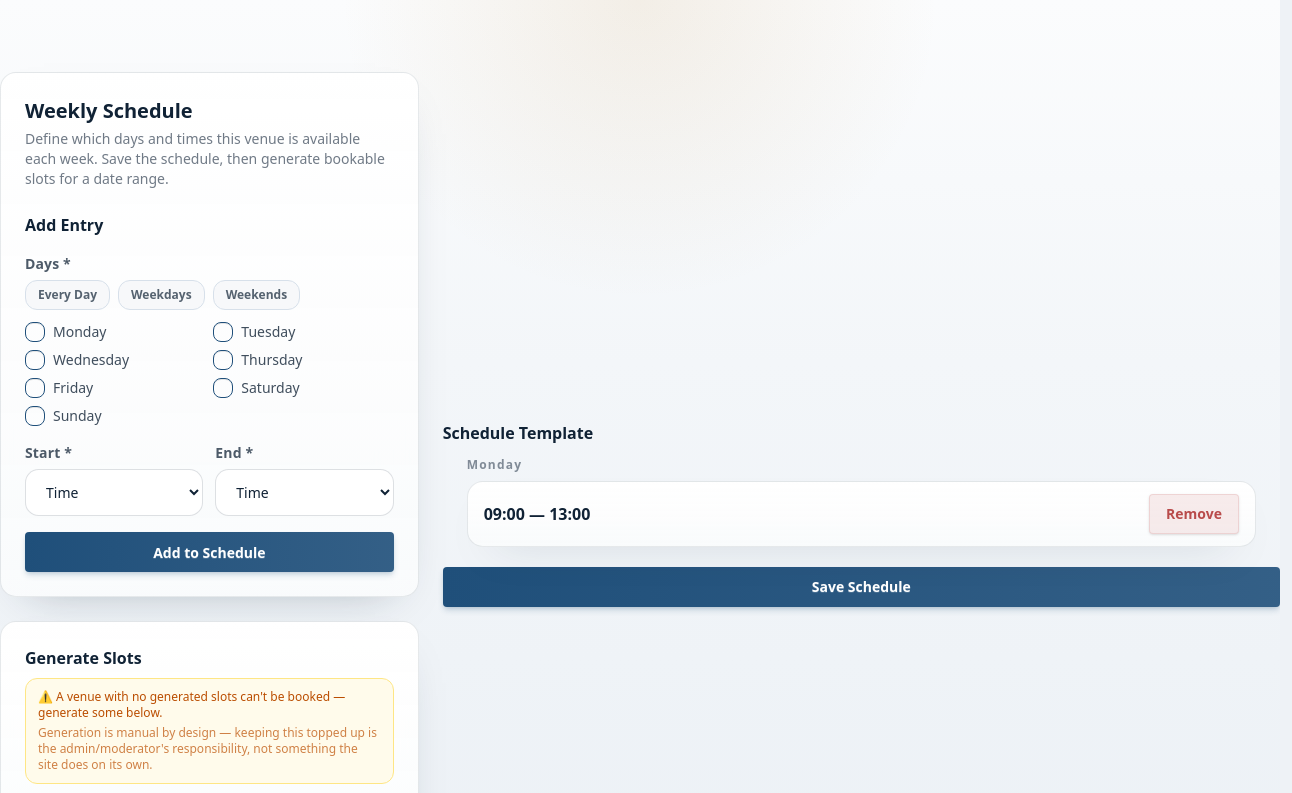
Scenario: ScheduleEditor — Add Entry overlap validation › blocks adding an entry that overlaps an existing one on the same day, before it ever reaches setSchedule
Click the checkbox labelled "monday" at (35, 332), box [25,322,45,342]
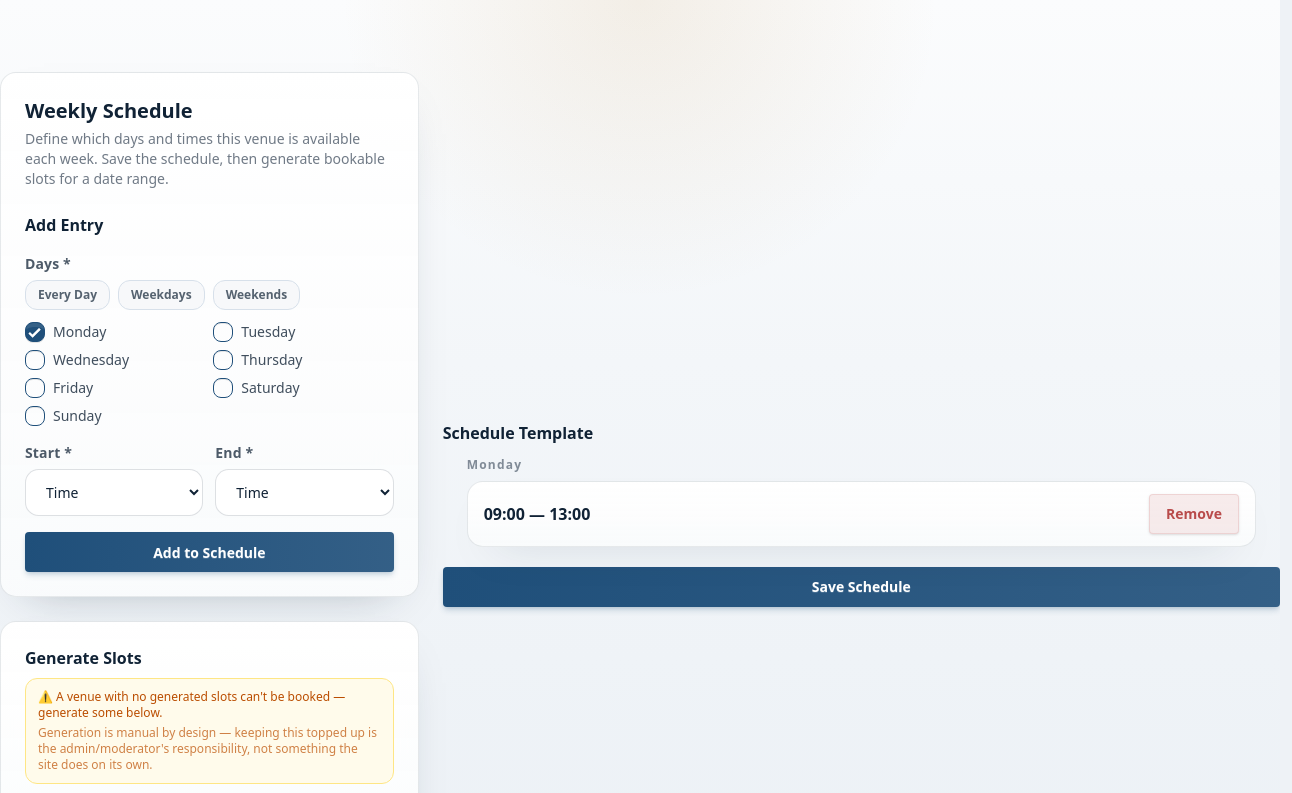
Select "12:00" in the dropdown labelled "Start *" at (114, 492), box [25,469,203,516]
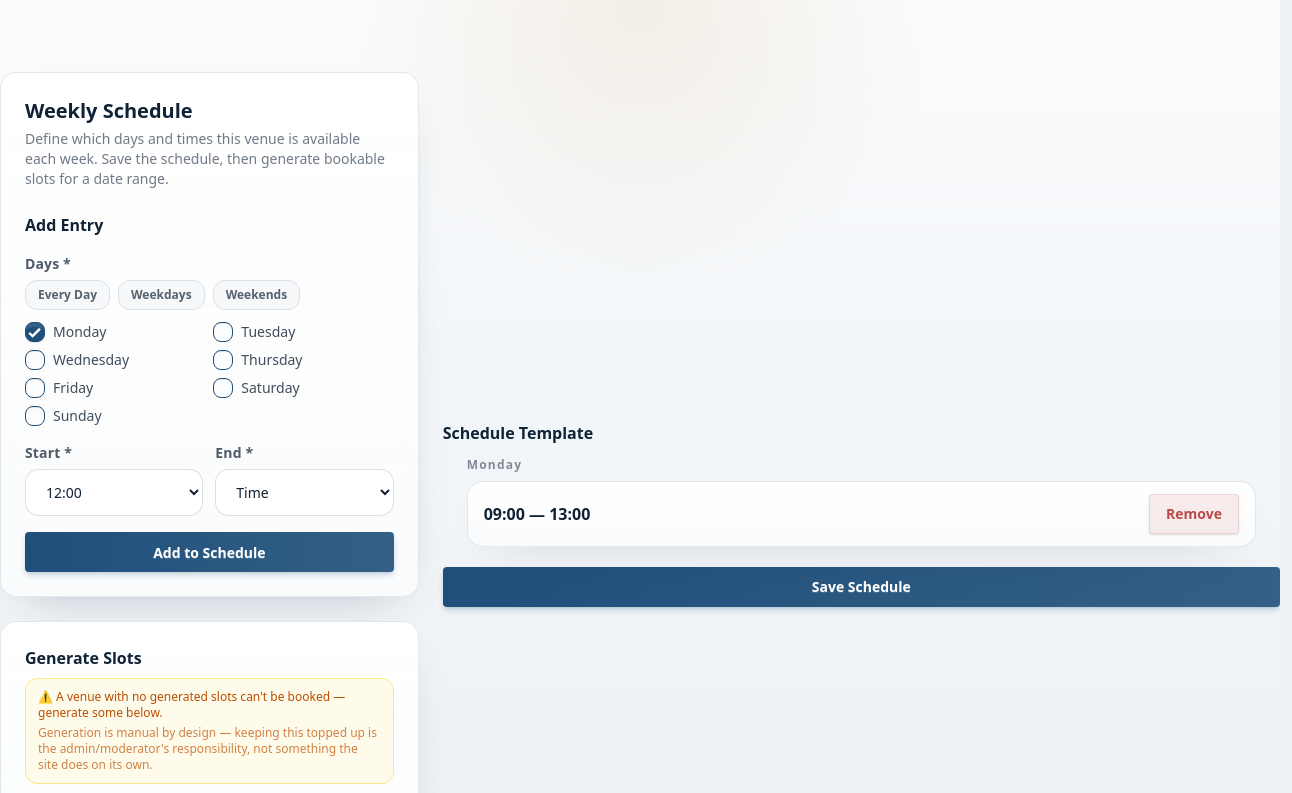
Select "16:00" in the dropdown labelled "End *" at (304, 492), box [215,469,394,516]
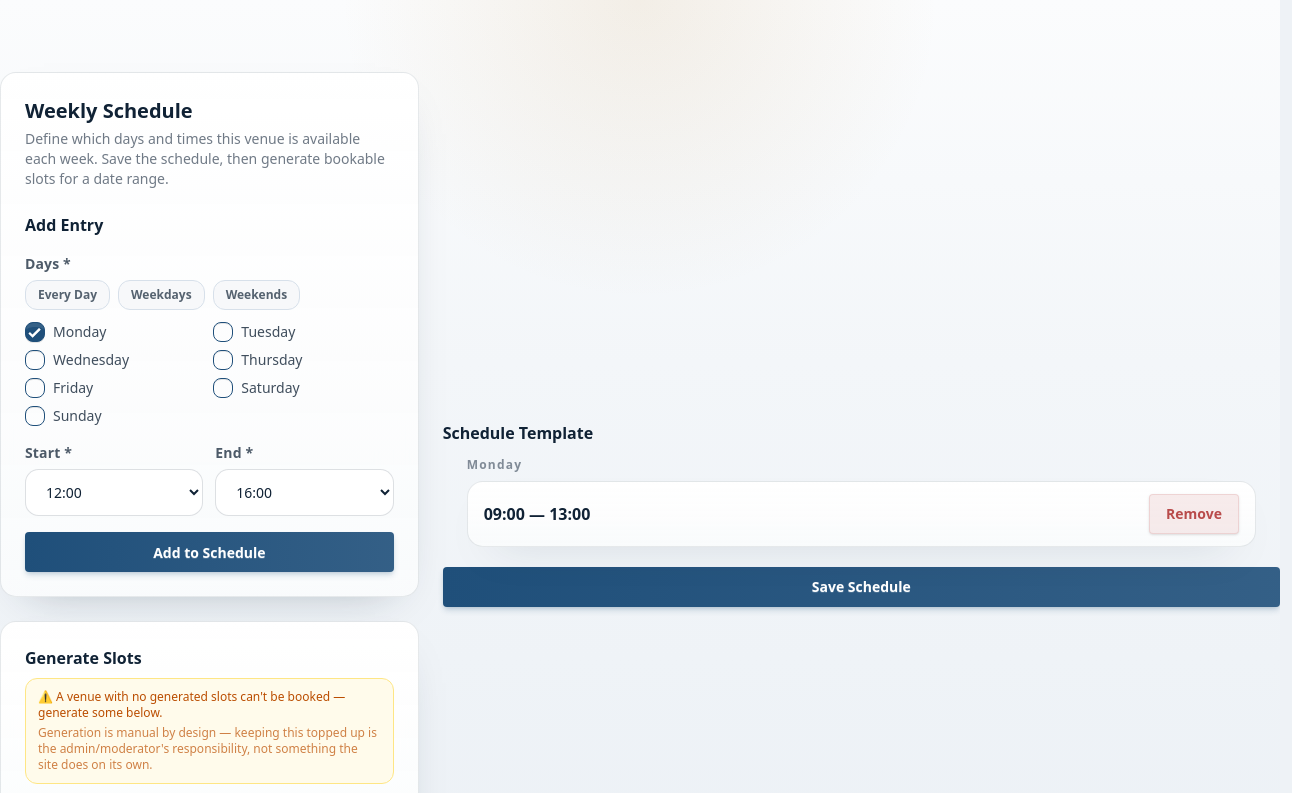
Click the button "Add to Schedule" at (209, 552), box [25,532,394,572]
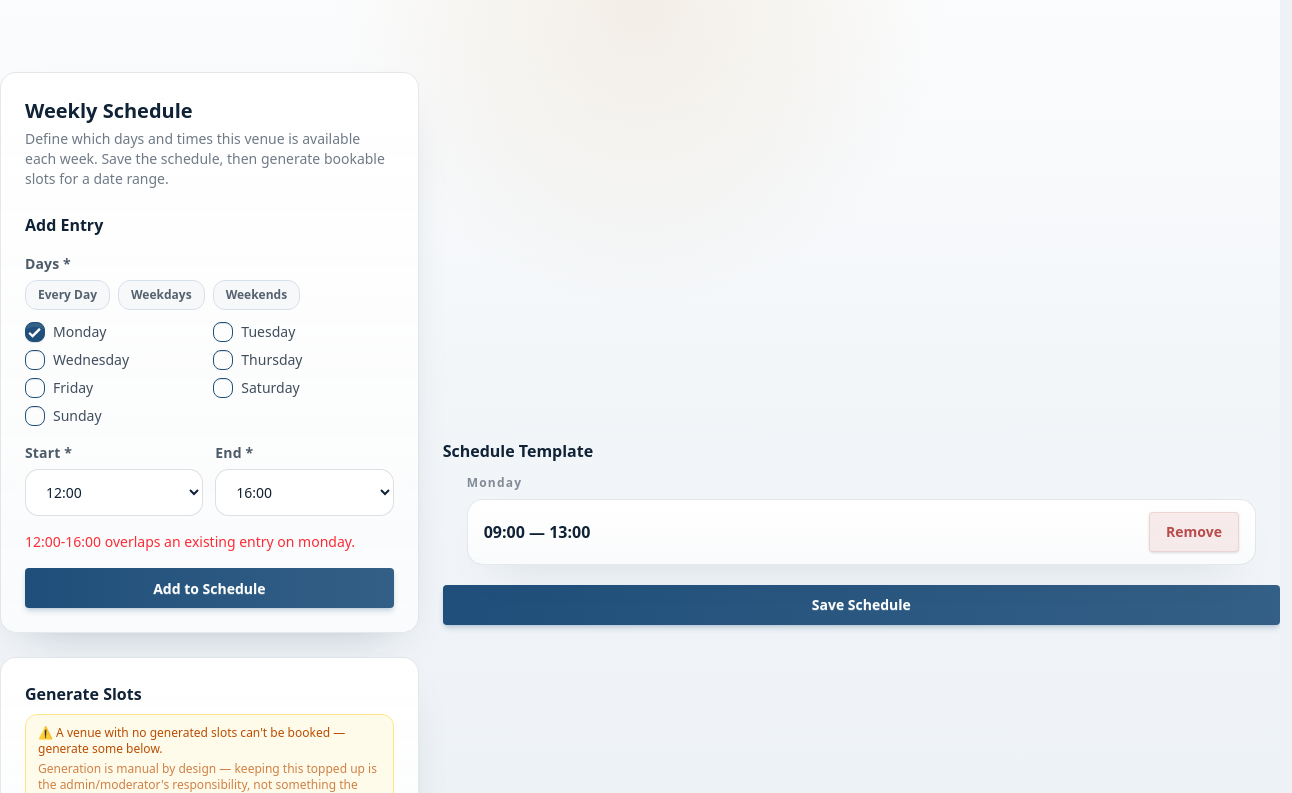
Expected: the text "12:00-16:00 overlaps an existing entry on monday." is shown, [25,532,394,552]
